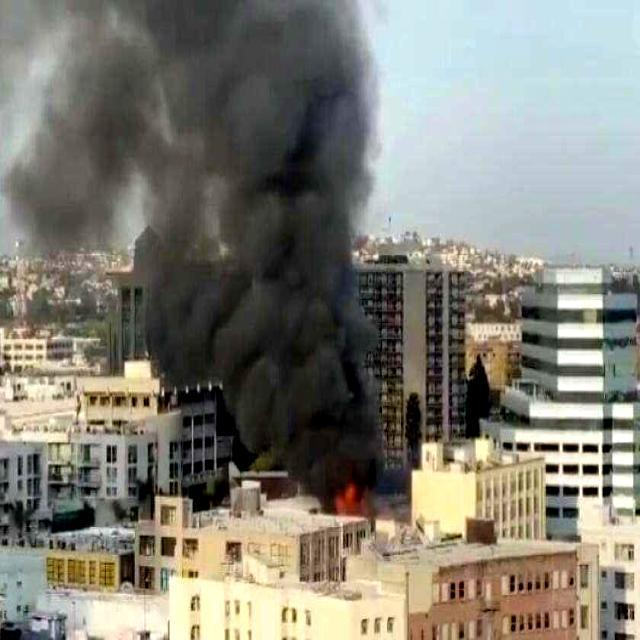Smoke: (0, 2, 389, 502)
